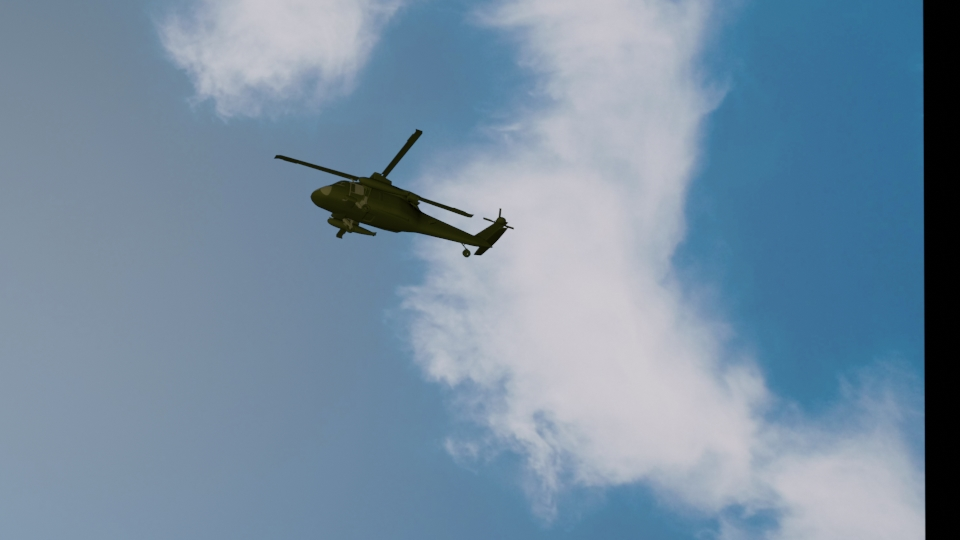heli: (273, 126, 512, 259)
